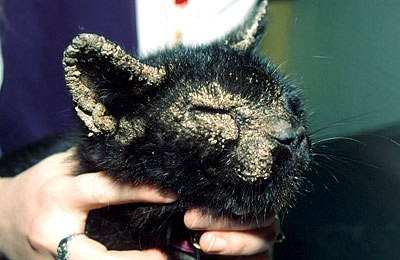kudis: (58, 32, 168, 145), (176, 86, 243, 141), (247, 97, 289, 142), (231, 1, 267, 52), (236, 142, 271, 177)
